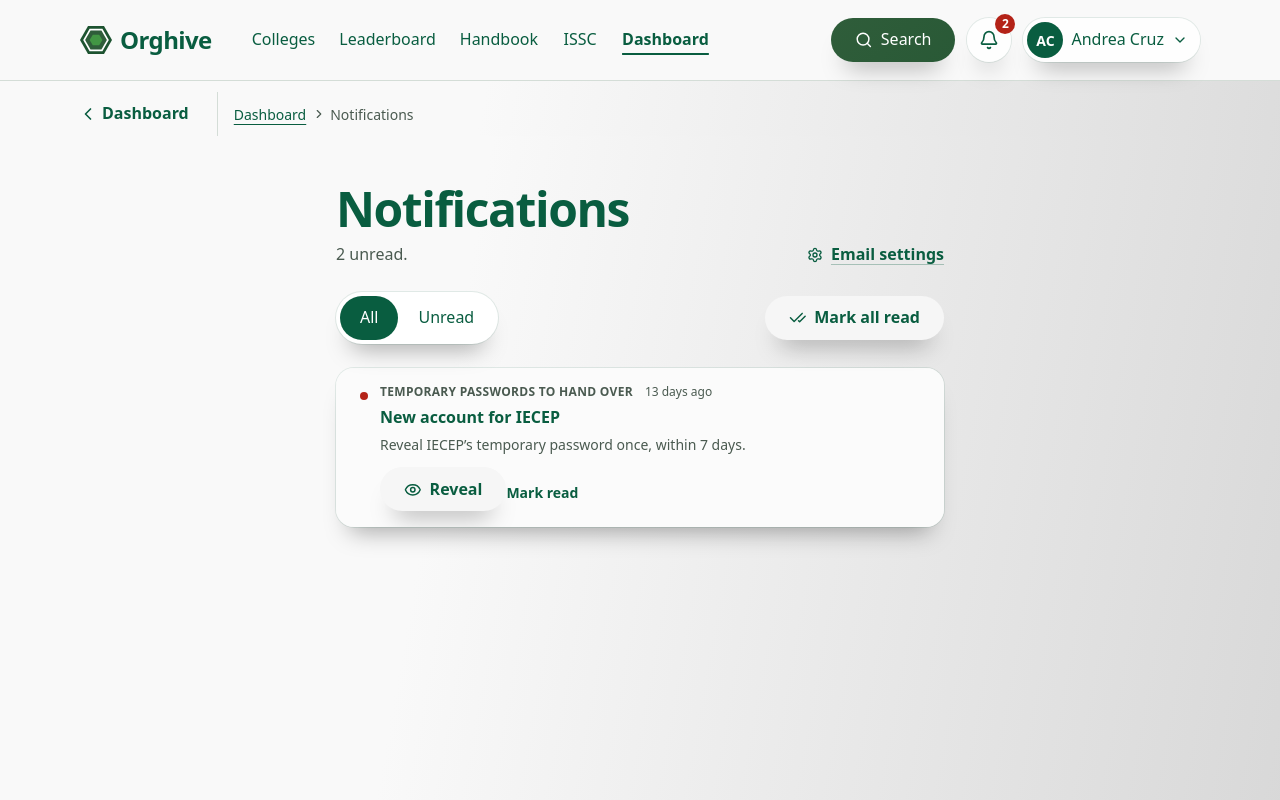
Test case: the one-time Reveal (ISSC account) › reveals the temporary password once; afterwards it is gone
The width and height of the screenshot is (1280, 800).
Step 1. Click the button "Reveal" → click(443, 489), box [380,467,506,511]
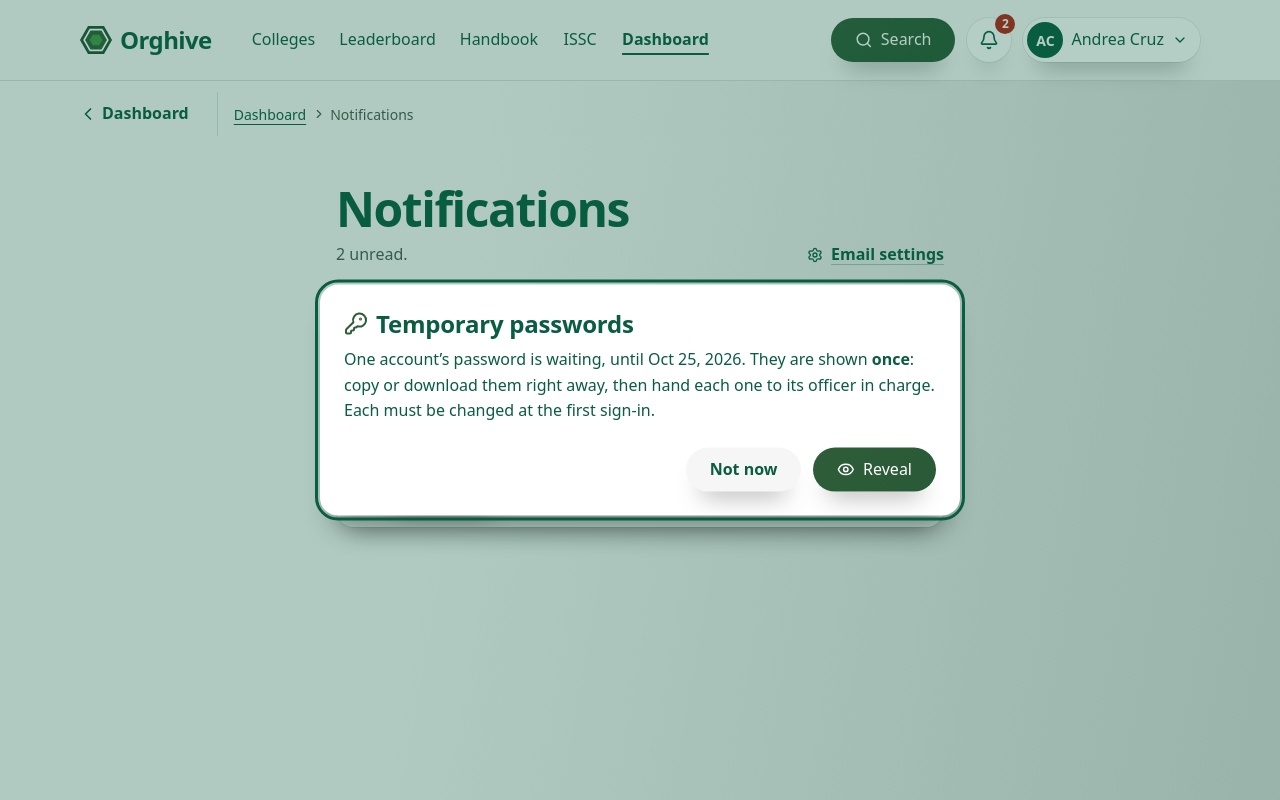
expect the text "Abcd-Efgh-Jkmn-Pq23" is not shown: met
expect the text "shown" is shown: met, box [742,348,868,370]
Step 2. Click the button "Reveal" → click(875, 469), box [814,447,936,491]
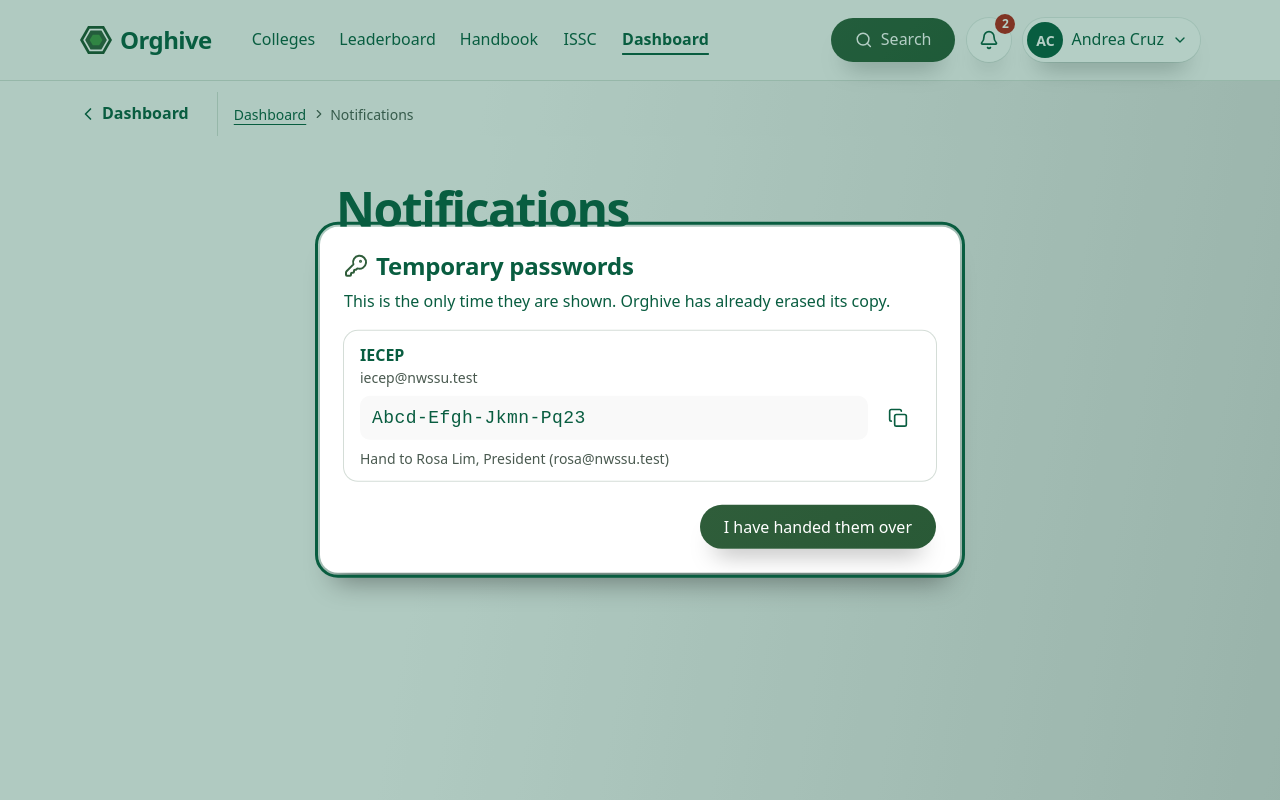
expect the text "Abcd-Efgh-Jkmn-Pq23" is shown: met, box [360,395,868,440]
expect the text "Hand to Rosa Lim, President (rosa@nwssu.test)" is shown: met, box [360,449,669,468]
Step 3. Click the button "I have handed them over" → click(818, 527), box [700,505,936,549]
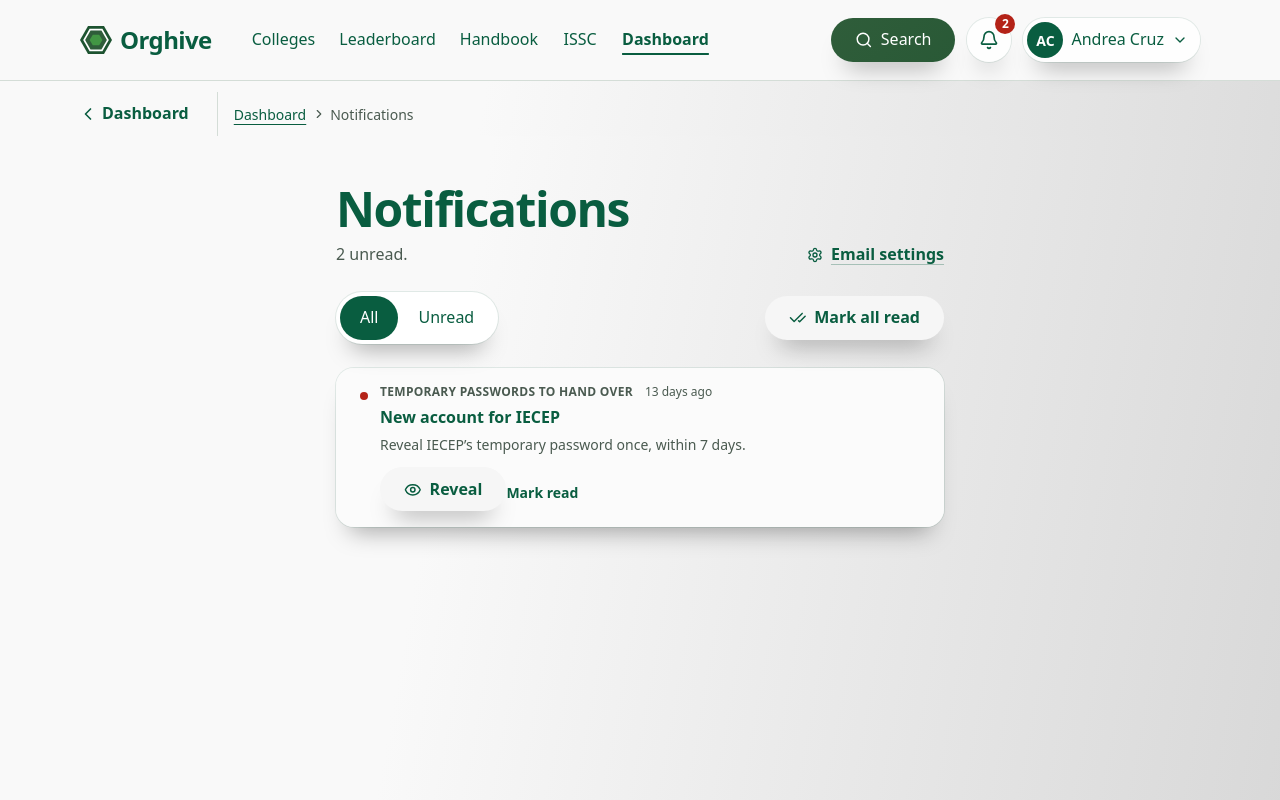
expect the dialog is gone: met
// Opened again, the passwords are gone.
Step 4. Click the button "Reveal" → click(443, 489), box [380,467,506,511]
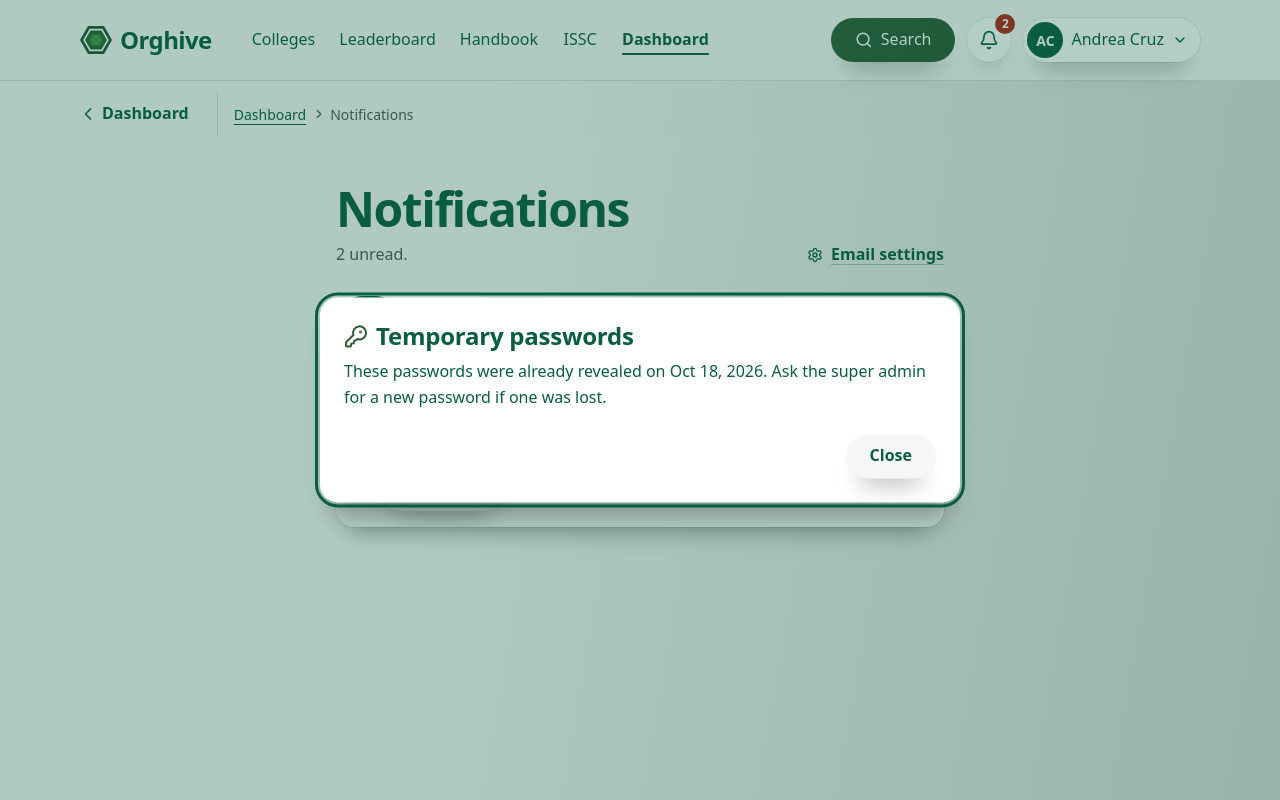
expect the text "Abcd-Efgh-Jkmn-Pq23" is not shown: met
expect the text "already revealed" is shown: met, box [344,360,926,408]
